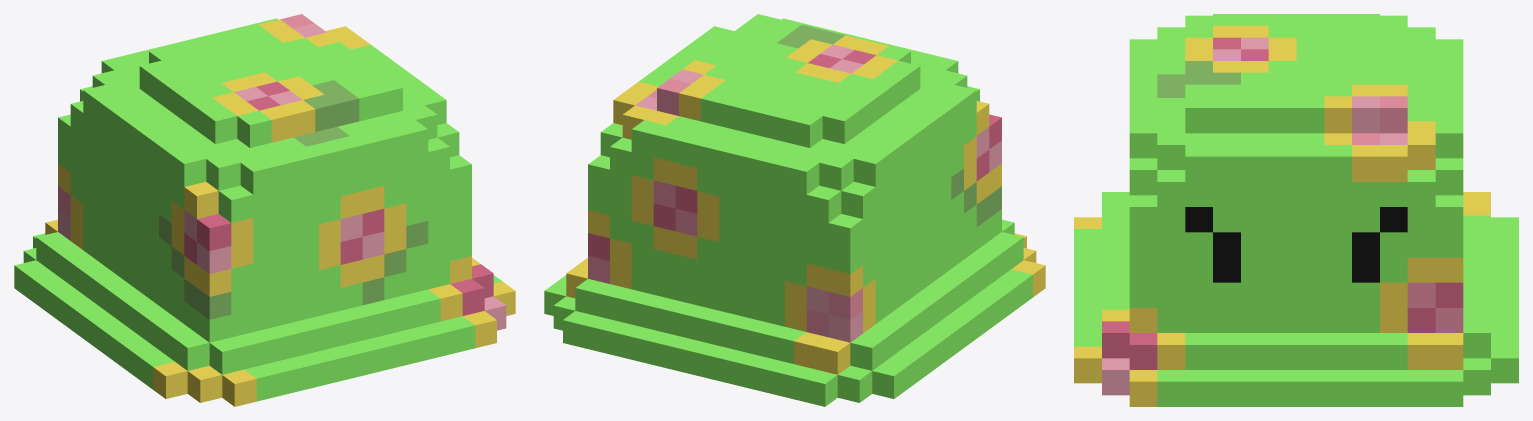
Rendered from SSSSLIME.obj.
The picture shows the model from 3 angles, left to right: view 1: azimuth 30°, elevation 25°; view 2: azimuth 150°, elevation 25°; view 3: azimuth 270°, elevation 25°; orthographic projection. The views are drawn at different scales.
Bounding box in the file's own units: 1.6 × 1 × 1.6.
Materials: 1 (1 with a texture image).
